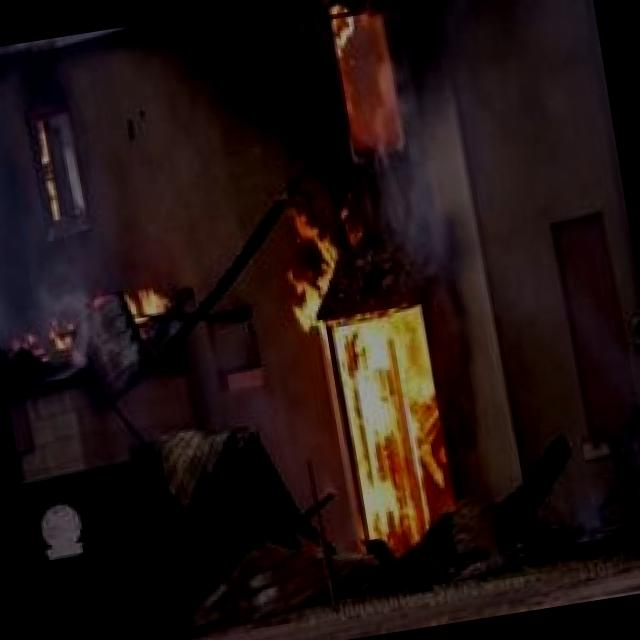fire: (316, 294, 464, 546), (314, 0, 423, 166)
